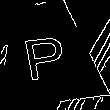P_N: (21, 25, 71, 81)
